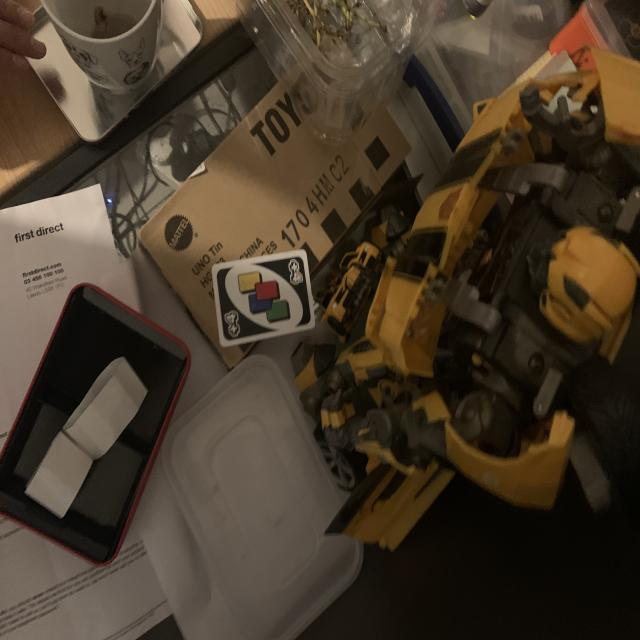lcolor-400: (282, 256, 305, 287)
